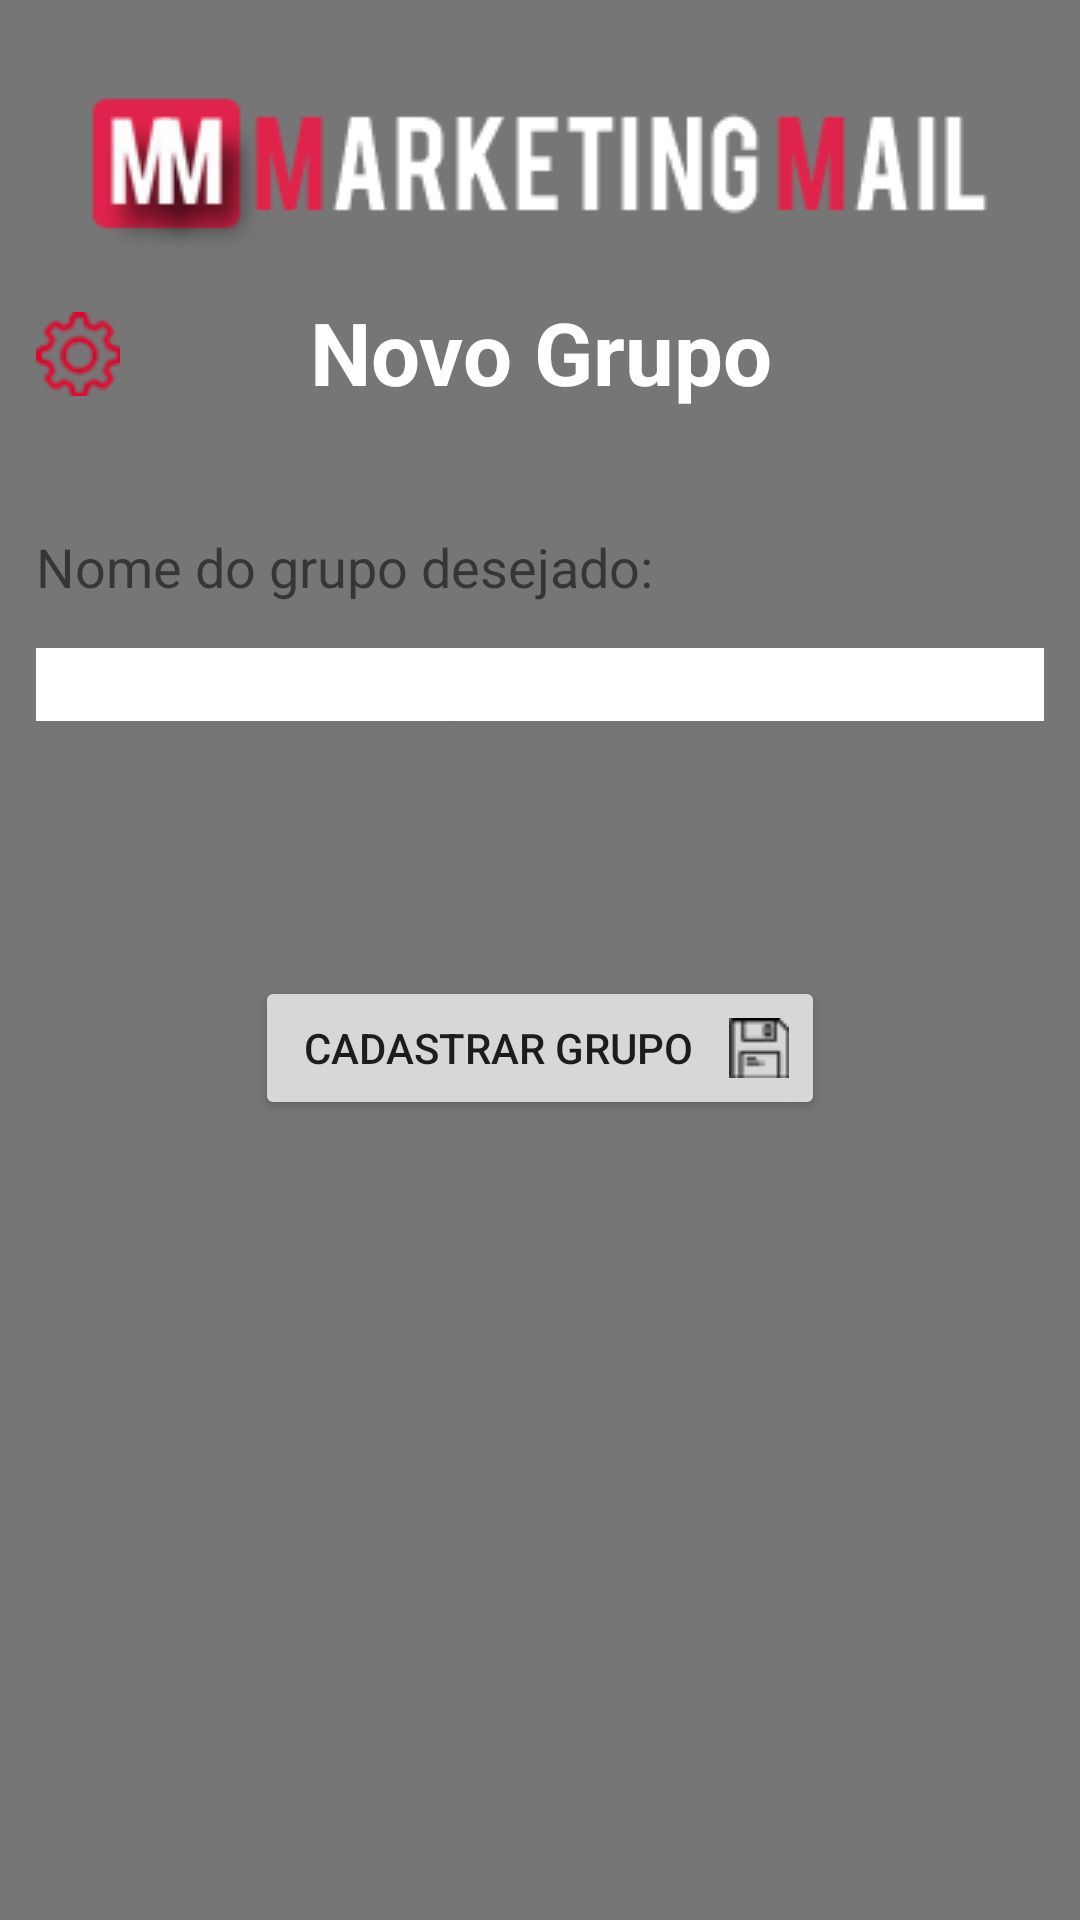

Named icons in this screenshot (1080w x 1920h) and their centers, point (x, y):
settings: point (78, 354)
